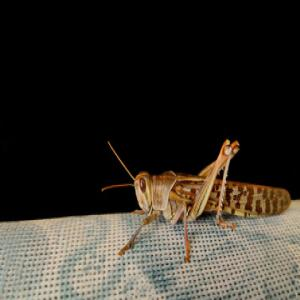locust: (111, 141, 293, 236)
